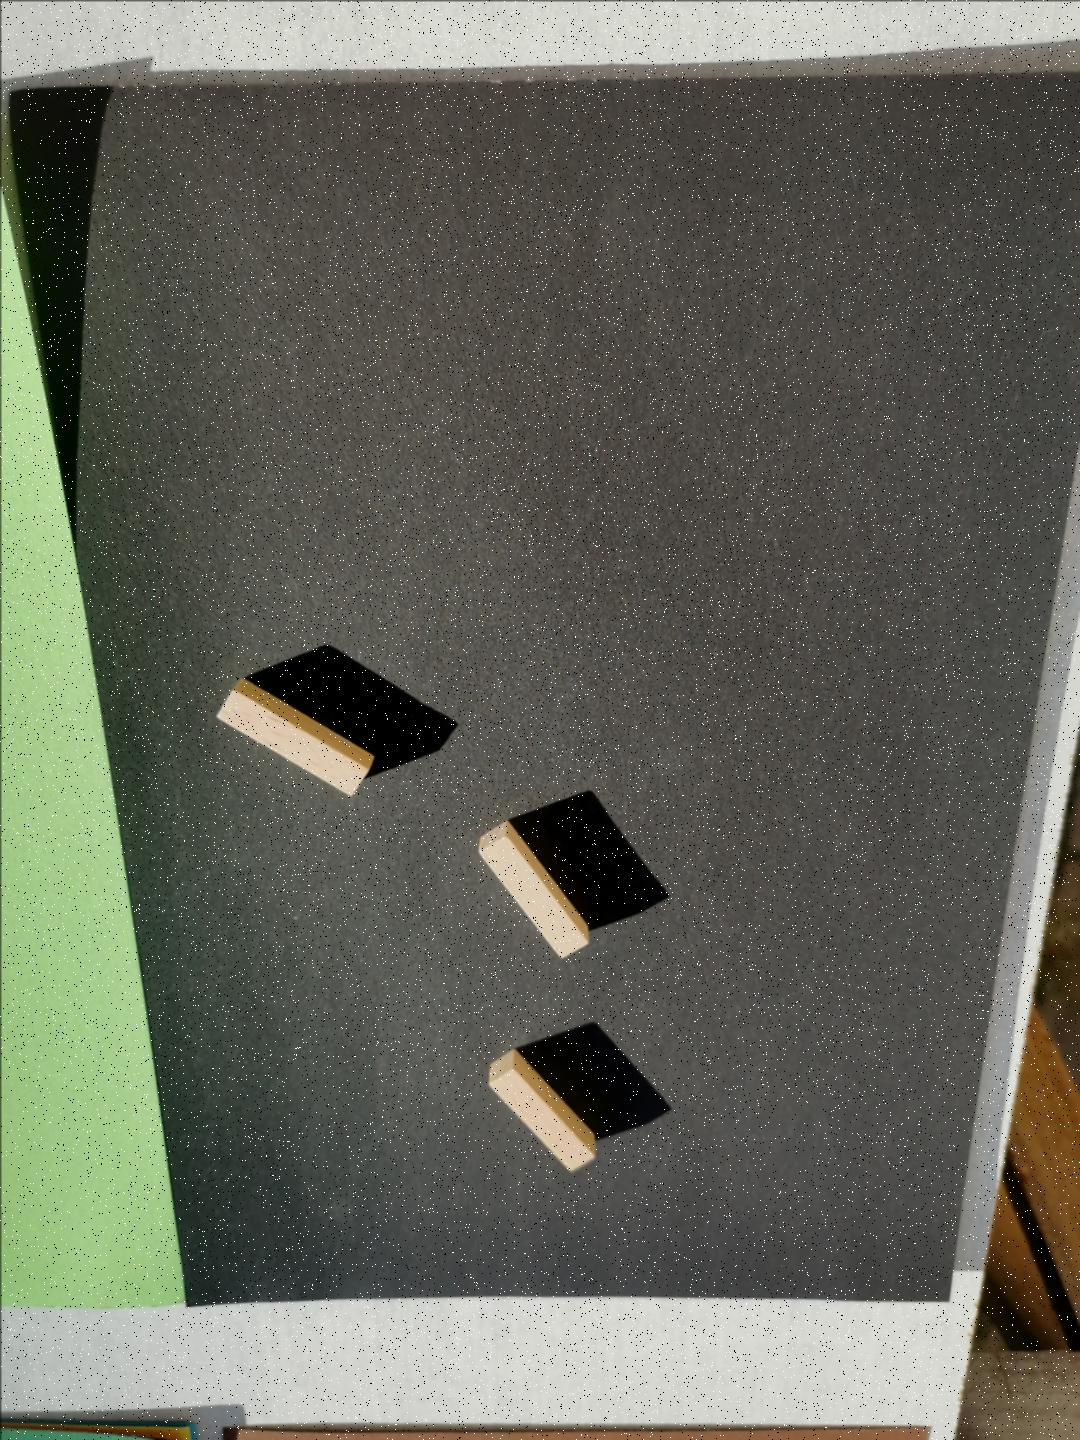jenga: (217, 678, 374, 793), (478, 821, 588, 956), (489, 1049, 593, 1170)
